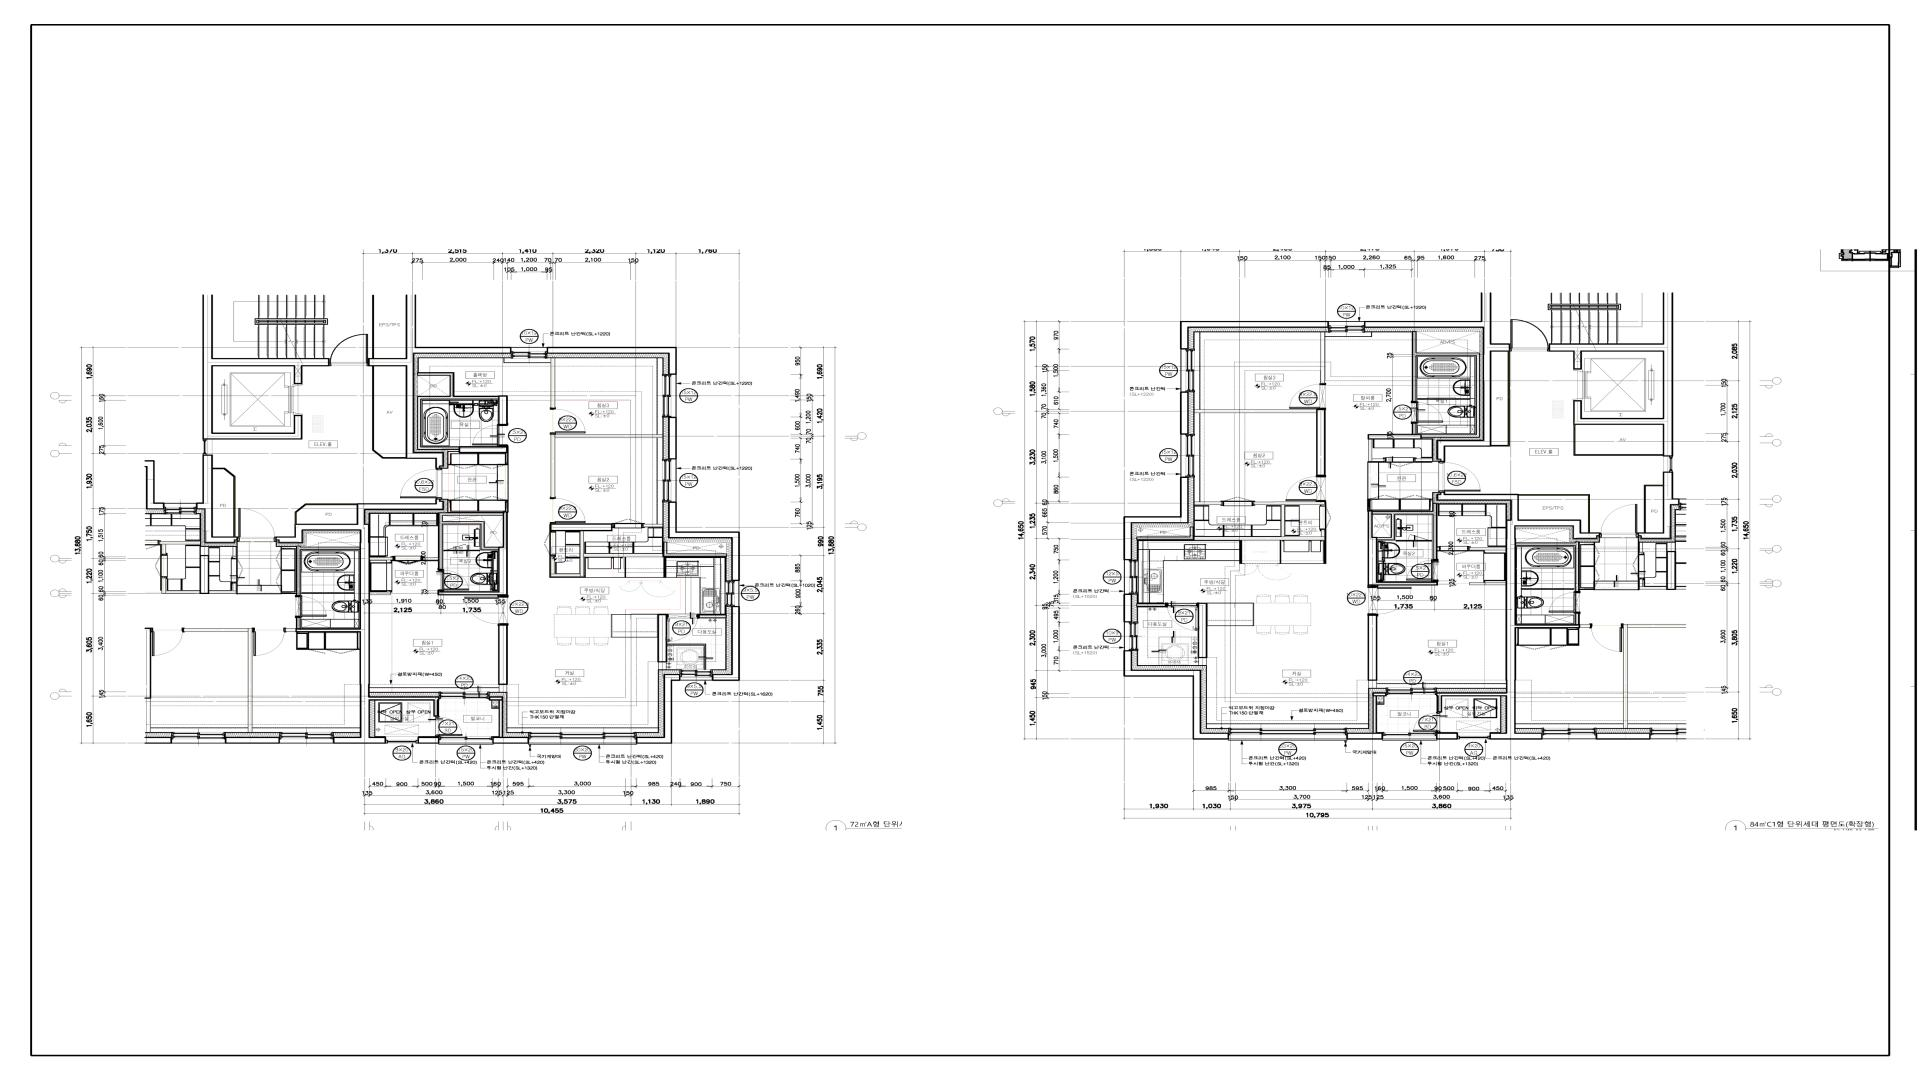door: (1510, 318, 1549, 351), (1439, 462, 1481, 492), (464, 596, 508, 625), (237, 509, 276, 542), (330, 334, 368, 367), (401, 468, 442, 498), (1367, 585, 1411, 613), (1283, 476, 1325, 502), (550, 497, 585, 524), (1290, 384, 1325, 409), (550, 409, 585, 434), (667, 615, 699, 642), (1168, 603, 1197, 632), (472, 425, 508, 446), (1407, 559, 1439, 582), (438, 570, 469, 591), (1412, 402, 1443, 422), (434, 716, 463, 736), (1414, 712, 1440, 732), (1383, 458, 1416, 468), (1222, 496, 1254, 506), (612, 518, 644, 529), (1319, 505, 1332, 530), (543, 531, 556, 555), (1437, 546, 1469, 555), (393, 556, 425, 564), (1408, 534, 1433, 542), (443, 543, 468, 551)
wall: (276, 498, 444, 744), (1436, 492, 1601, 740), (1365, 293, 1510, 462), (369, 295, 510, 468), (1549, 293, 1673, 456), (203, 294, 330, 439), (1124, 650, 1229, 740), (1193, 409, 1325, 476), (1412, 331, 1480, 438), (551, 434, 663, 497), (417, 372, 498, 450), (550, 524, 663, 578), (438, 512, 508, 596), (669, 502, 740, 580), (1124, 477, 1188, 560), (1195, 501, 1327, 541), (1367, 512, 1437, 585), (1180, 320, 1329, 349), (438, 513, 504, 570), (196, 455, 237, 543), (1373, 504, 1437, 559), (547, 347, 676, 375), (637, 674, 680, 744), (712, 607, 740, 680), (663, 542, 727, 556), (1137, 526, 1195, 541), (498, 625, 508, 692), (1197, 603, 1208, 658), (658, 613, 667, 670), (1369, 615, 1377, 680), (459, 446, 509, 454), (1369, 439, 1385, 462), (1180, 392, 1188, 435), (669, 417, 676, 459), (1367, 434, 1422, 439), (1320, 332, 1325, 384), (498, 396, 508, 425), (1346, 733, 1383, 740), (493, 737, 529, 744), (1124, 593, 1131, 622), (551, 357, 555, 407), (498, 700, 504, 737), (1436, 732, 1457, 740), (418, 736, 439, 744), (1137, 603, 1168, 608), (1469, 547, 1506, 551), (1373, 696, 1377, 733), (699, 613, 727, 618), (1469, 583, 1506, 585), (369, 556, 392, 560), (644, 524, 663, 527), (1193, 502, 1222, 505), (1369, 680, 1377, 688), (1324, 541, 1327, 564), (1240, 541, 1242, 564), (1199, 658, 1207, 666), (1416, 459, 1432, 463), (369, 592, 392, 595), (489, 696, 504, 700), (1373, 692, 1386, 696), (425, 556, 438, 560), (1412, 422, 1416, 434), (1437, 582, 1455, 584), (1395, 539, 1410, 542), (1367, 498, 1370, 512), (468, 550, 480, 551)
window: (1229, 728, 1346, 741), (529, 732, 637, 745), (662, 459, 676, 502), (1180, 435, 1195, 477), (662, 375, 676, 417), (1182, 349, 1195, 392), (439, 736, 493, 745), (1382, 732, 1436, 741), (1125, 560, 1139, 595), (512, 347, 547, 359), (1386, 687, 1436, 695), (724, 582, 740, 607), (1125, 622, 1138, 651), (1329, 322, 1365, 332), (680, 670, 712, 680), (439, 692, 489, 699), (386, 737, 418, 744), (203, 439, 212, 455), (1457, 736, 1490, 740)
